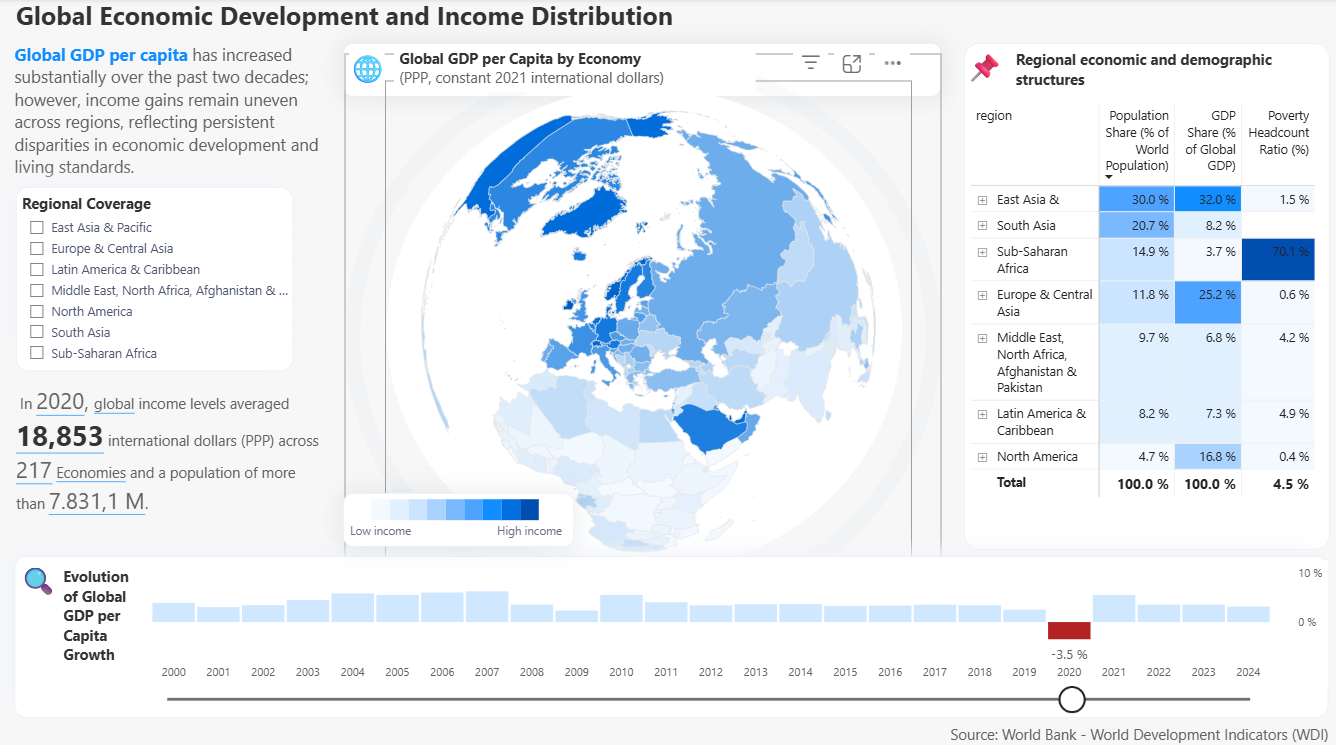

The dashboard page shown, as its layout file describes it:
{"tool":"powerbi","page":{"name":"World Development Indicators","canvas":[1280,720],"ordinal":0},"visuals":[{"type":"shape","box":[329.4,43,571.5,51.6],"z":0},{"type":"shape","box":[369.8,85,492.5,464.5],"z":0,"group":"g1"},{"type":"shape","box":[922.5,43,349.5,484.1],"z":1000},{"type":"shape","box":[330.3,53,570,540.5],"z":1000,"group":"g1"},{"type":"group","id":"g1","title":"Map","box":[330.3,53,570,540.5],"z":2000},{"type":"shapeMap","fields":{"Category":["country.country_code"]},"box":[368.7,79.3,502.4,478.4],"z":4000,"group":"g1"},{"type":"shape","box":[15.8,532.8,1254.8,154.7],"z":4000},{"type":"textbox","box":[15.8,43,296.5,137.5],"z":5000},{"type":"textbox","box":[17.2,0,720.5,38],"z":6000},{"type":"textbox","box":[17.2,369.6,295.1,154.7],"z":7000},{"type":"slicer","title":"Regional Coverage","fields":{"Values":["country.region"]},"box":[17.2,180.5,265,176.2],"z":8000},{"type":"textbox","box":[875.1,692.6,395.3,28.7],"z":9000},{"type":"textbox","box":[57.3,537.1,73.1,146.1],"z":10000,"group":"g4"},{"type":"group","id":"g2","title":"Grupo 1","box":[130.3,537.1,1140.2,146.1],"z":10000},{"type":"deneb7E15AEF80B9E4D4F8E12924291ECE89A","fields":{"dataset":["Measure.Legend Placeholder"]},"box":[329.4,472.7,220.6,51.6],"z":11000},{"type":"group","id":"g3","title":"Grupo 2","box":[335.6,47.7,388.8,43],"z":12000},{"type":"textbox","box":[379.2,47.7,345.2,43],"z":13000,"group":"g3"},{"type":"textbox","box":[966.2,48.8,303.8,39],"z":13000,"group":"g5"},{"type":"group","id":"g4","title":"Grupo 4","box":[57.3,537.1,73.1,146.1],"z":13000},{"type":"slicer","fields":{"Values":["Years.Years"]},"box":[130.9,621.2,1093.6,62],"z":13000,"group":"g2"},{"type":"group","id":"g5","title":"Grupo 2","box":[923.9,47.3,346.6,41.5],"z":14000},{"type":"textbox","box":[923.9,47.3,37.4,41],"z":15000,"group":"g5"},{"type":"textbox","box":[335.6,48.7,34,41],"z":15000,"group":"g3"},{"type":"pivotTable","title":"Regional economic and demographic structures","fields":{"Rows":["country.region","country.country_name"],"Values":["Measure.Population Share","Measure.Income Share","Measure.Poverty Headcount Ratio"]},"box":[924.6,94.5,346.5,415.8],"z":15000},{"type":"textbox","box":[20.1,537.1,36.9,41],"z":15000,"group":"g6"},{"type":"group","id":"g6","title":"Grupo 2","box":[20.1,537.1,37.2,41.5],"z":16000},{"type":"columnChart","title":"Global access to electricity","fields":{"Category":["Extra year.Extra year"],"Y":["indicators.GDP per Capita 02"]},"box":[130.3,537.1,1140.2,118.6],"z":16500,"group":"g2"}]}

Visuals, with their boxes in screenshot pixels (x1, y1, x2, y2), scaled from the page's 1280x720 canvas onto the 1336x745 screenshot:
shape: x1=344, y1=44, x2=940, y2=98
shape: x1=386, y1=88, x2=900, y2=569
shape: x1=963, y1=44, x2=1328, y2=545
shape: x1=345, y1=55, x2=940, y2=614
"Map" group: x1=345, y1=55, x2=940, y2=614
shapeMap - country.country_code: x1=385, y1=82, x2=909, y2=577
shape: x1=16, y1=551, x2=1326, y2=711
textbox: x1=16, y1=44, x2=326, y2=187
textbox: x1=18, y1=0, x2=770, y2=39
textbox: x1=18, y1=382, x2=326, y2=543
"Regional Coverage" slicer: x1=18, y1=187, x2=295, y2=369
textbox: x1=913, y1=717, x2=1326, y2=744
textbox: x1=60, y1=556, x2=136, y2=707
"Grupo 1" group: x1=136, y1=556, x2=1326, y2=707
deneb7E15AEF80B9E4D4F8E12924291ECE89A - Measure.Legend Placeholder: x1=344, y1=489, x2=574, y2=543
"Grupo 2" group: x1=350, y1=49, x2=756, y2=94
textbox: x1=396, y1=49, x2=756, y2=94
textbox: x1=1008, y1=50, x2=1326, y2=91
"Grupo 4" group: x1=60, y1=556, x2=136, y2=707
slicer - Years.Years: x1=137, y1=643, x2=1278, y2=707
"Grupo 2" group: x1=964, y1=49, x2=1326, y2=92
textbox: x1=964, y1=49, x2=1003, y2=91
textbox: x1=350, y1=50, x2=386, y2=93
"Regional economic and demographic structures" pivotTable: x1=965, y1=98, x2=1327, y2=528
textbox: x1=21, y1=556, x2=59, y2=598
"Grupo 2" group: x1=21, y1=556, x2=60, y2=599
"Global access to electricity" columnChart: x1=136, y1=556, x2=1326, y2=678
